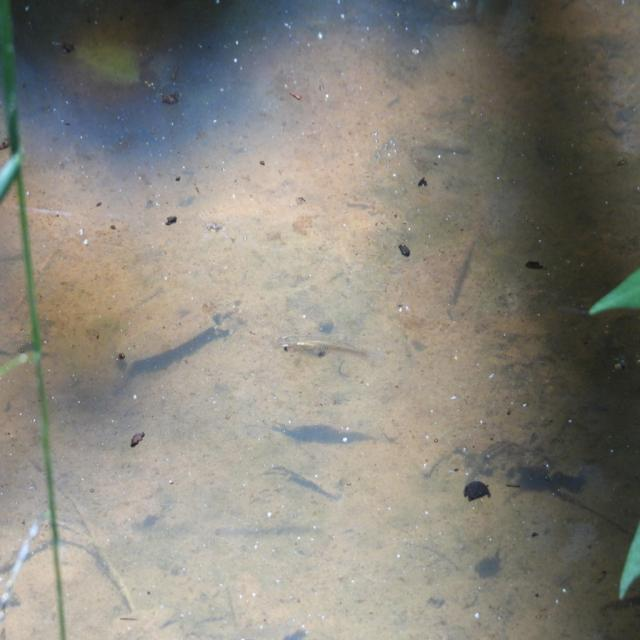Sivrisinek Baligi: (277, 330, 375, 366)
